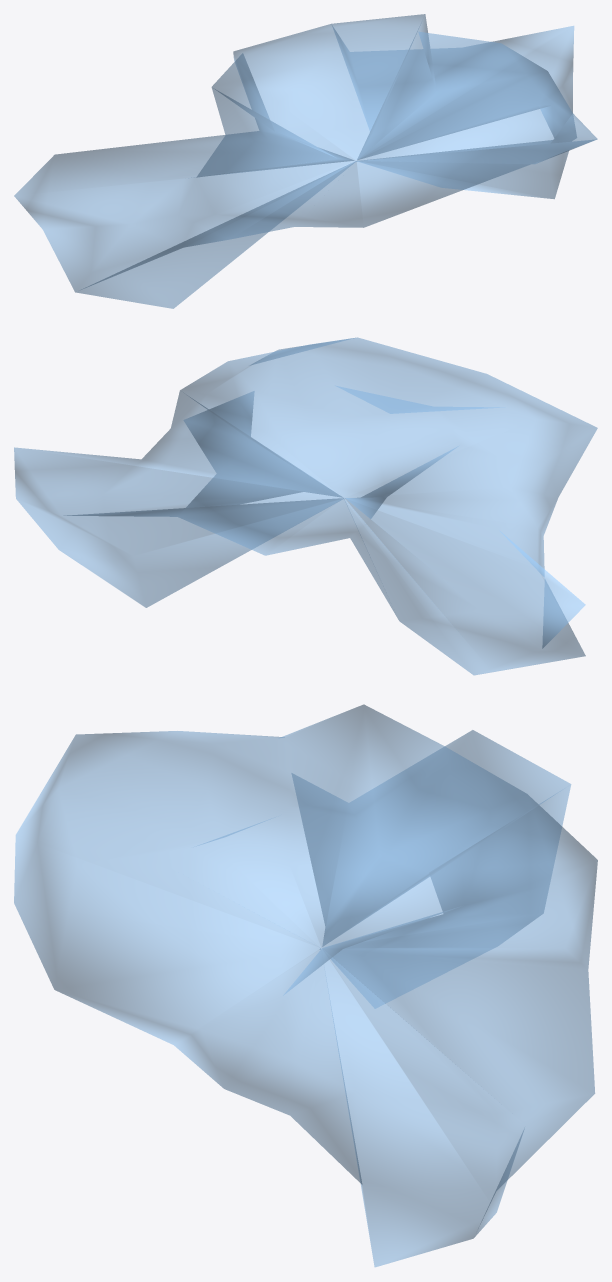
The model's file is msithkar_shield.gltf.
3 renders of one model, top to bottom at view 1: azimuth 30°, elevation 25°; view 2: azimuth 150°, elevation 25°; view 3: azimuth 270°, elevation 25°, orthographic. The views are drawn at different scales.
Parts seen in each view (by area): view 1: msithkar.shield; view 2: msithkar.shield; view 3: msithkar.shield.
Part boxes in pixels (x1,y1,x2,y2): msithkar.shield: [14, 14, 597, 308]; msithkar.shield: [14, 337, 597, 675]; msithkar.shield: [14, 704, 597, 1267].
Size of the model in its own units: 29.21 by 11.02 by 17.02.
